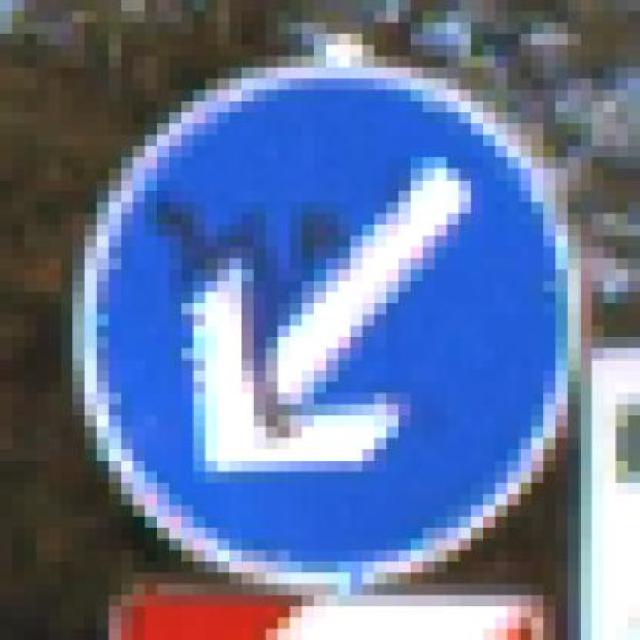Keep-Left: (36, 68, 616, 595)
